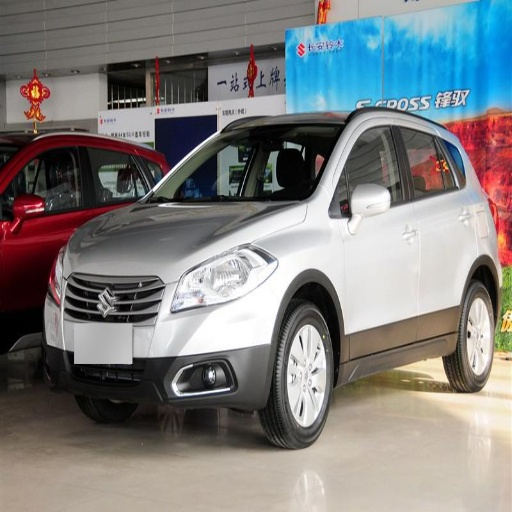front_bumper: (46, 269, 287, 418)
front_glass: (145, 124, 344, 202)
front_left_door: (335, 117, 418, 359), (15, 146, 75, 189)
